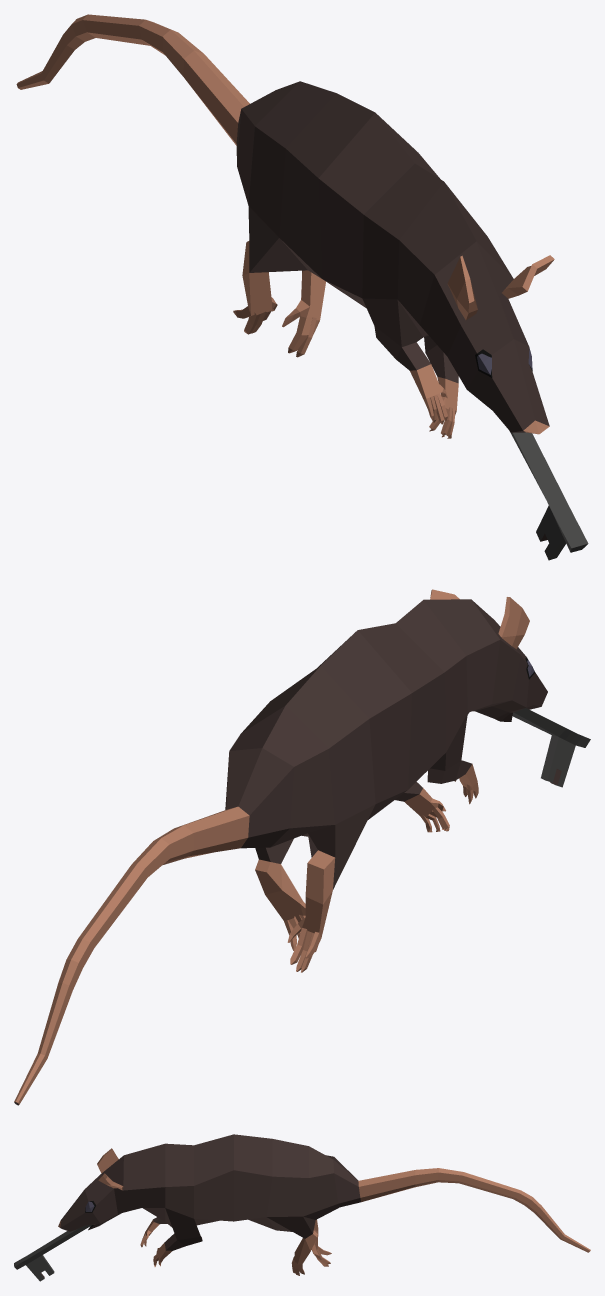
File: ratWithKey.fbx
The picture shows the model from 3 angles, top to bottom: view 1: azimuth 30°, elevation 25°; view 2: azimuth 150°, elevation 25°; view 3: azimuth 270°, elevation 25°; orthographic projection. The views are drawn at different scales.
Visible parts, largest first — view 1: ratwkey.001; view 2: ratwkey.001; view 3: ratwkey.001.
Part boxes in pixels (bbox=[...]): ratwkey.001: bbox=[16, 14, 588, 560]; ratwkey.001: bbox=[14, 589, 590, 1105]; ratwkey.001: bbox=[14, 1134, 590, 1281].
Size of the model in its own units: 111 by 267 by 927.
